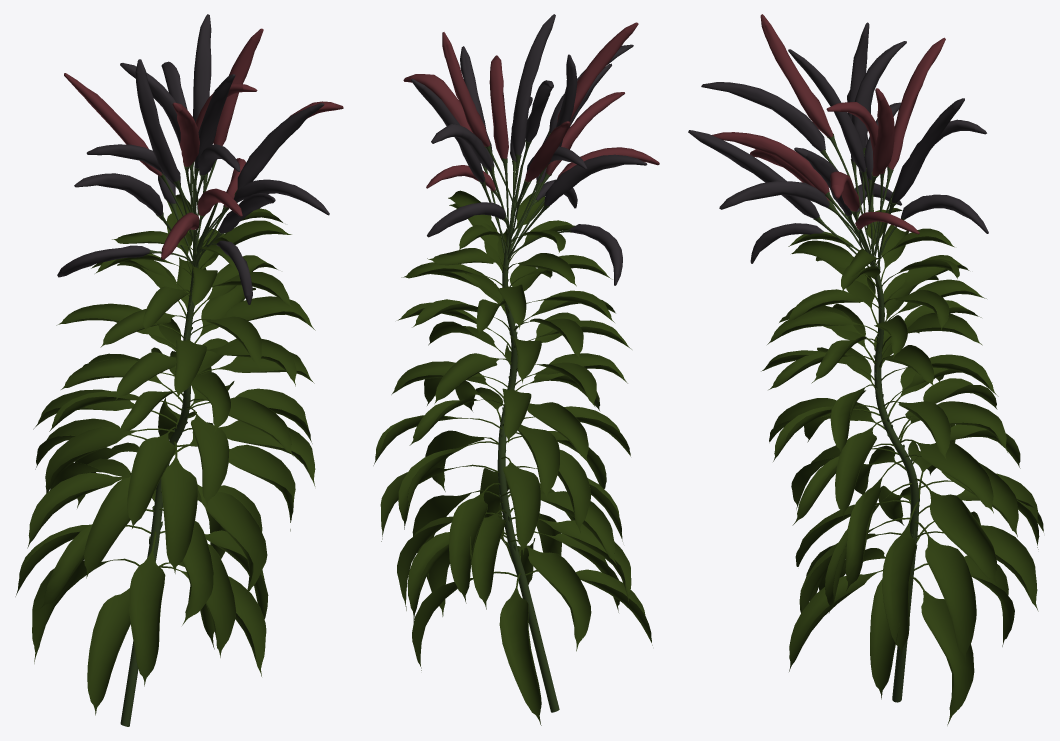
Rendered from ripe_pepper.glb.
The picture shows the model from 3 angles, left to right: view 1: azimuth 30°, elevation 25°; view 2: azimuth 150°, elevation 25°; view 3: azimuth 270°, elevation 25°; orthographic projection. The views are drawn at different scales.
Parts seen in each view (by area): view 1: Red pepper 24092019 2; view 2: Red pepper 24092019 2; view 3: Red pepper 24092019 2.
Boxes of the visible parts, box(x1,y1,x2,y2) form: Red pepper 24092019 2: box(15, 14, 343, 726); Red pepper 24092019 2: box(373, 14, 659, 725); Red pepper 24092019 2: box(688, 14, 1043, 725).
Size of the model in its own units: 0.1143 by 0.2742 by 0.1311.
